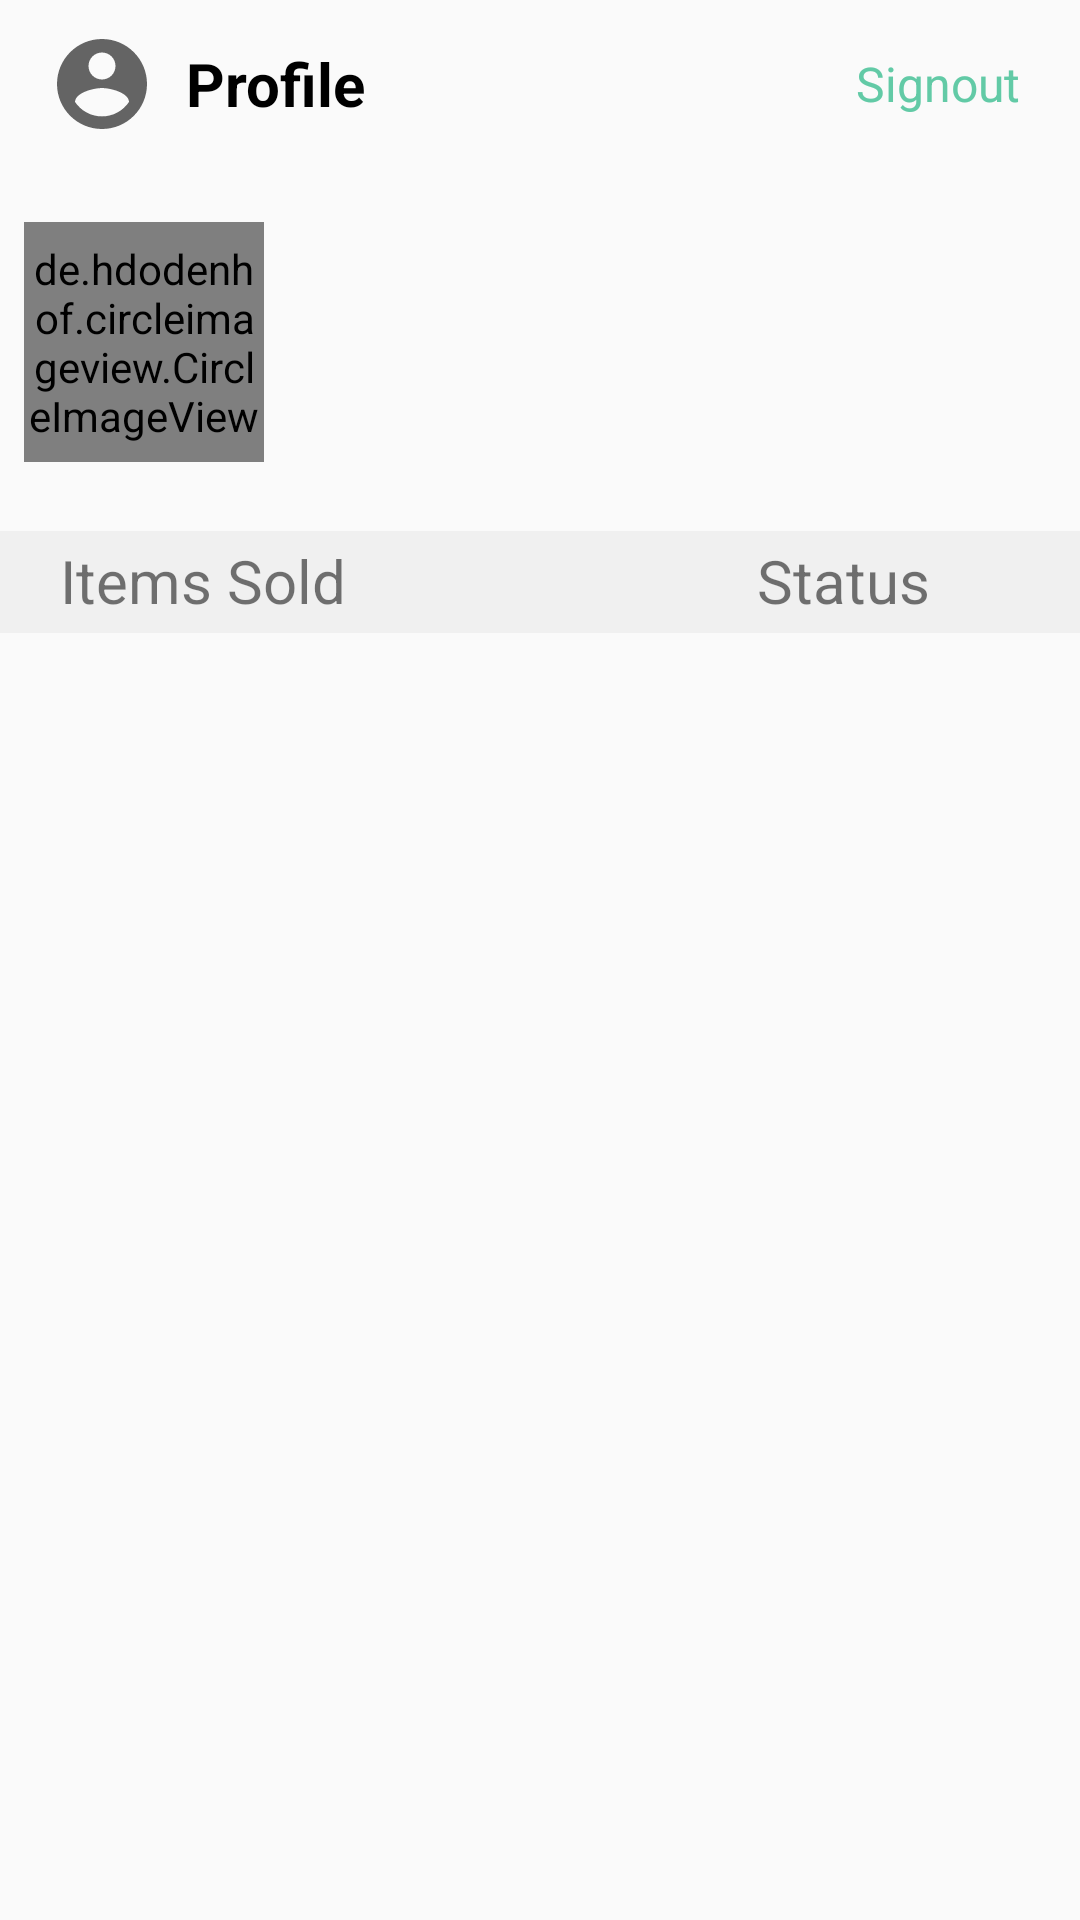

Icon bounding boxes for this 1080x1920 phone screenshot, format region(x1, y1, x2, y2):
account user: region(57, 39, 147, 129)
